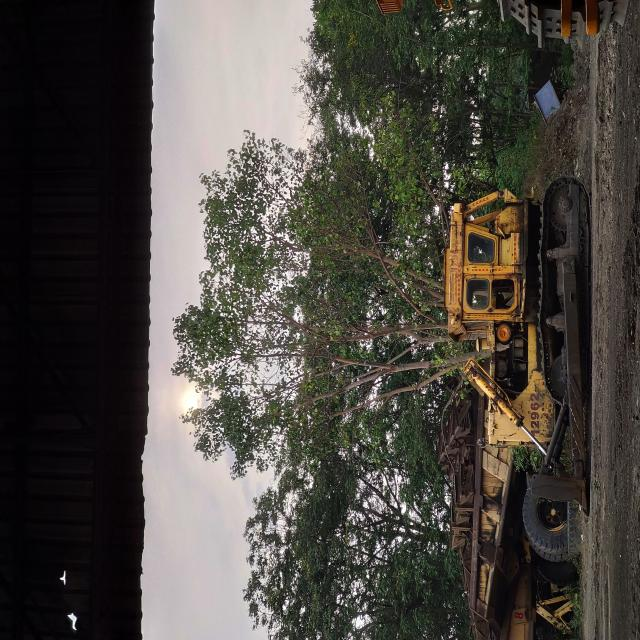dump_truck: (1, 583, 189, 640)
